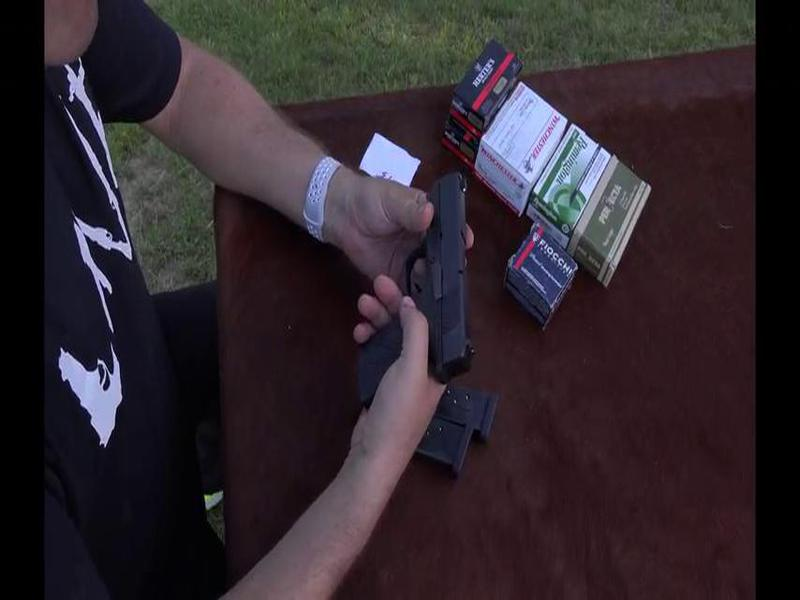Pistola: (336, 160, 491, 397)
